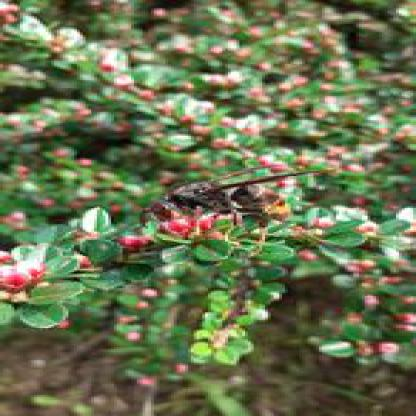Asian Hornet: (144, 158, 320, 229)
